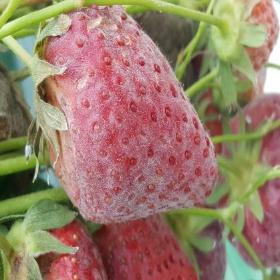Powdery Mildew Fruit: (34, 4, 220, 224), (12, 203, 108, 279)
